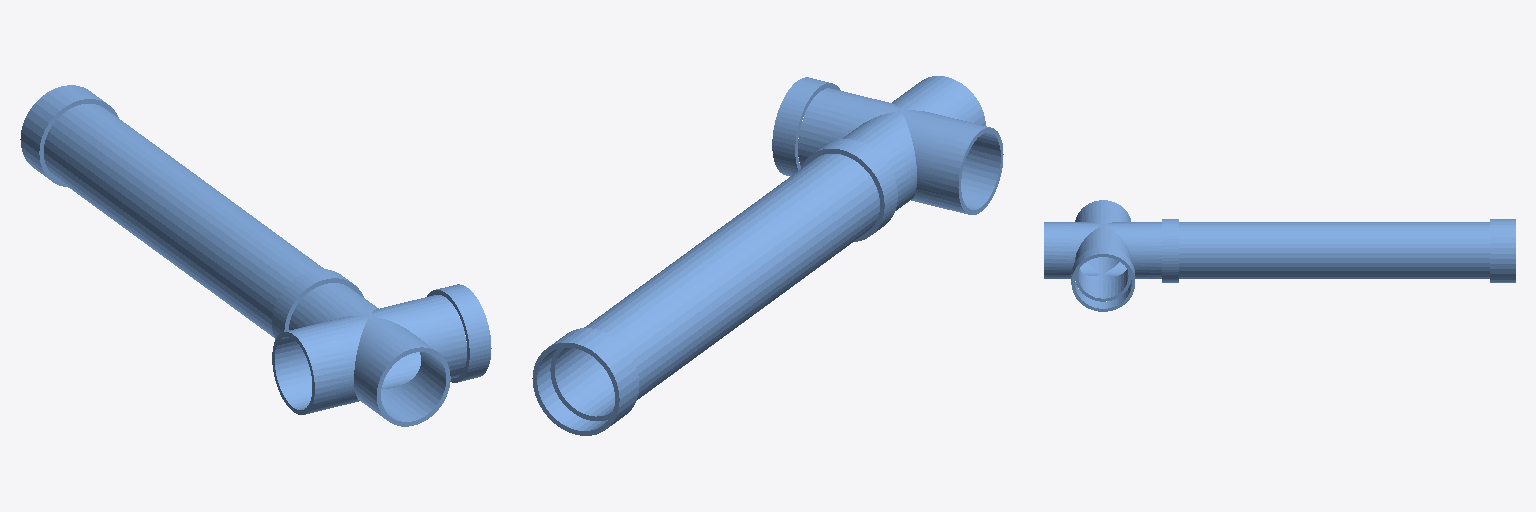
robot.urdf — straight_pipe:
<?xml version="1.0" encoding="utf-8"?>
<!-- This URDF was automatically created by SolidWorks to URDF Exporter! Originally created by [author] ([email redacted])
     Commit Version: 1.5.0-0-g9aa0fdb  Build Version: 1.5.7004.21443
     For more information, please see http://wiki.ros.org/sw_urdf_exporter -->
<robot
  name="straight_pipe">
  <link
    name="base_link">
    <inertial>
      <origin
        xyz="-0.057529 -2.0702 0.048193"
        rpy="0 0 0" />
      <mass
        value="43.605" />
      <inertia
        ixx="17.27"
        ixy="-1.6137E-15"
        ixz="6.8792E-32"
        iyy="1.1437"
        iyz="9.874E-16"
        izz="17.27" />
    </inertial>
    <visual>
      <origin
        xyz="0 0 0"
        rpy="0 0 0" />
      <geometry>
        <mesh
          filename="package://straight_pipe/meshes/base_link.STL" />
      </geometry>
      <material
        name="">
        <color
          rgba="0.55294 0.71373 0.92157 1" />
      </material>
    </visual>
    <collision>
      <origin
        xyz="0 0 0"
        rpy="0 0 0" />
      <geometry>
        <mesh
          filename="package://straight_pipe/meshes/base_link.STL" />
      </geometry>
    </collision>
  </link>
  <link
    name="cz1">
    <inertial>
      <origin
        xyz="0.036975 -3.4001E-16 0.036975"
        rpy="0 0 0" />
      <mass
        value="24.47" />
      <inertia
        ixx="1.065"
        ixy="3.5879E-08"
        ixz="3.5123E-14"
        iyy="1.4005"
        iyz="-3.5879E-08"
        izz="1.065" />
    </inertial>
    <visual>
      <origin
        xyz="0 0 0"
        rpy="0 0 0" />
      <geometry>
        <mesh
          filename="package://straight_pipe/meshes/cz1.STL" />
      </geometry>
      <material
        name="">
        <color
          rgba="0.55294 0.71373 0.92157 1" />
      </material>
    </visual>
    <collision>
      <origin
        xyz="0 0 0"
        rpy="0 0 0" />
      <geometry>
        <mesh
          filename="package://straight_pipe/meshes/cz1.STL" />
      </geometry>
    </collision>
  </link>
  <joint
    name="cz1"
    type="fixed">
    <origin
      xyz="-0.057529 -3.5 0.048193"
      rpy="1.5708 0 1.5708" />
    <parent
      link="base_link" />
    <child
      link="cz1" />
    <axis
      xyz="0 0 0" />
    <safety_controller
      k_velocity="0" />
  </joint>
</robot>

--- What the picture shows (computed from the rendered views, not written in the file) ---
The picture shows the robot from 3 angles, left to right: view 1: azimuth 30°, elevation 25°; view 2: azimuth 150°, elevation 25°; view 3: azimuth 270°, elevation 25°; orthographic projection.
Model straight_pipe with 2 links and 1 joints (1 fixed), rooted at base_link, posed every joint at zero.
Links seen in each view (by area): view 1: base_link, cz1; view 2: base_link, cz1; view 3: base_link, cz1.
Link boxes in pixels (x1=…): base_link: x1=20, y1=85, x2=323, y2=336; cz1: x1=272, y1=269, x2=491, y2=426; base_link: x1=532, y1=154, x2=879, y2=435; cz1: x1=772, y1=76, x2=1003, y2=241; base_link: x1=1179, y1=219, x2=1515, y2=282; cz1: x1=1044, y1=200, x2=1178, y2=311.
Bounding box of the posed robot: 0.8 × 2.8 × 0.38 m (x, y, z).
2 mesh visuals loaded from 2 distinct referenced files (2 binary STL).